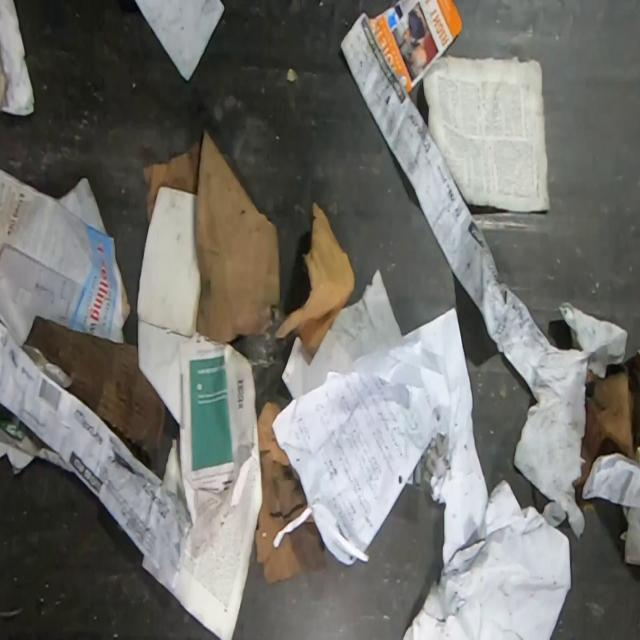cardboard: (135, 185, 258, 560), (141, 128, 281, 344), (24, 314, 168, 472), (254, 400, 328, 587), (274, 200, 356, 360)
